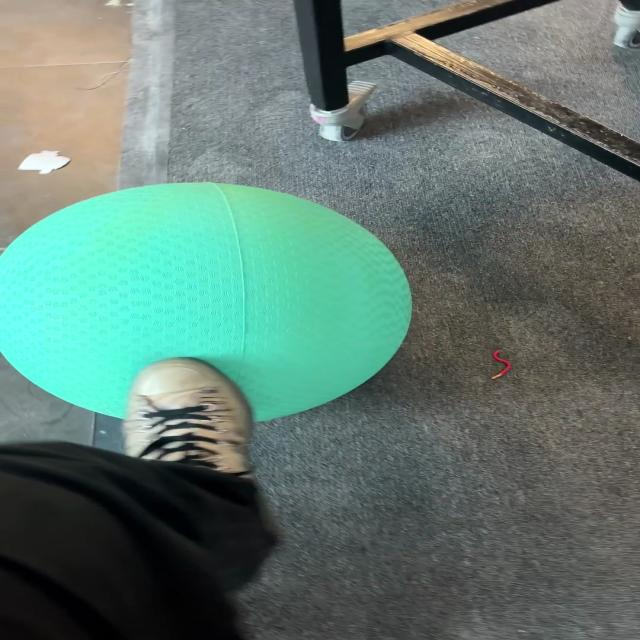Algae: (1, 181, 413, 423)
